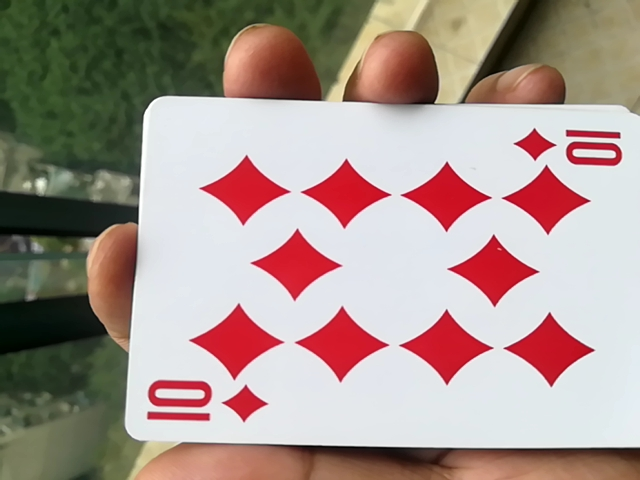fk 10: (117, 112, 639, 461)
